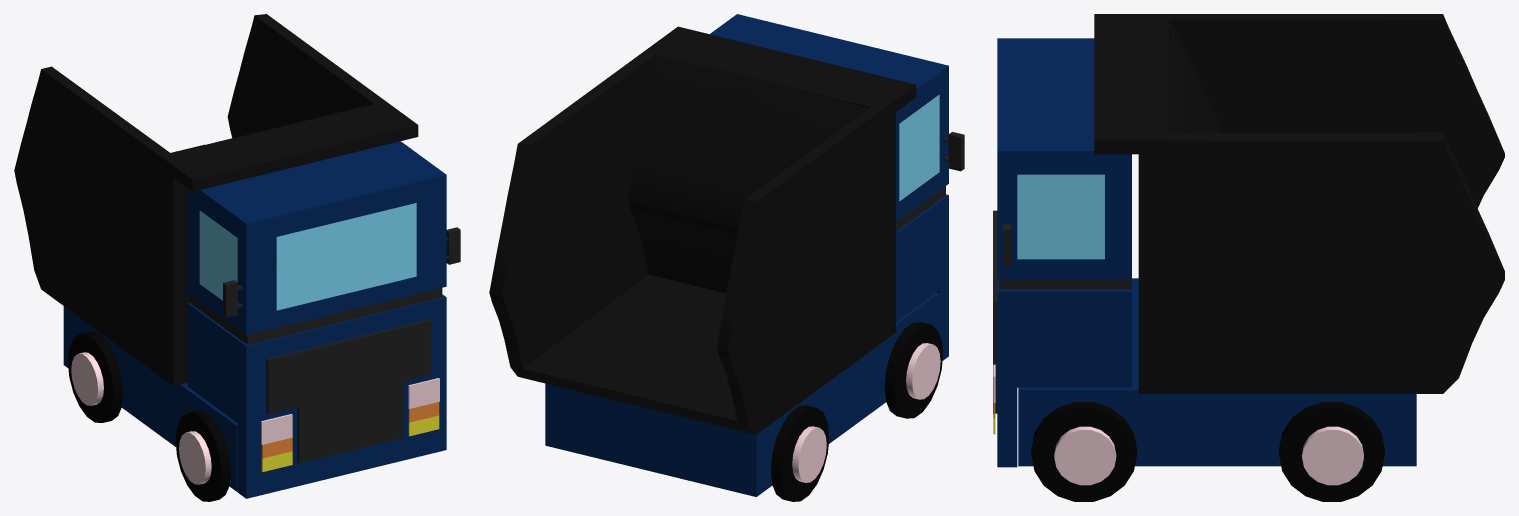
Rendered from CamionPapelyCarton.fbx.
3 views of the same model, side by side, from view 1: azimuth 30°, elevation 25°; view 2: azimuth 150°, elevation 25°; view 3: azimuth 270°, elevation 25° (orthographic). The views are drawn at different scales.
Parts seen in each view (by area): view 1: Box003, Box001, Box010, Box009, Box002, Cylinder003, Cylinder001, Box008, Cylinder002, Cylinder004, Box011, Box016 (+3 smaller); view 2: Box003, Box002, Box001, Box009, Cylinder001, Cylinder003, Cylinder004, Cylinder002, Box017; view 3: Box003, Box001, Box002, Box009, Cylinder007, Cylinder005, Cylinder006, Cylinder008, Box005, Box010.
Part boxes in pixels (x1,y1,x2,y2): Box003: [14, 14, 418, 386]; Box001: [187, 141, 446, 498]; Box010: [266, 319, 431, 463]; Box009: [199, 203, 416, 310]; Box002: [63, 306, 237, 491]; Cylinder003: [175, 410, 230, 501]; Cylinder001: [68, 332, 123, 422]; Box008: [248, 288, 440, 344]; Cylinder002: [71, 352, 103, 405]; Cylinder004: [179, 431, 211, 484]; Box011: [261, 414, 292, 444]; Box016: [408, 378, 439, 408]; Box003: [489, 26, 916, 434]; Box002: [545, 292, 939, 496]; Box001: [710, 14, 948, 360]; Box009: [899, 94, 939, 201]; Cylinder001: [770, 405, 829, 501]; Cylinder003: [884, 322, 942, 418]; Cylinder004: [906, 343, 940, 399]; Cylinder002: [792, 426, 826, 482]; Box017: [943, 132, 964, 171]; Box003: [1094, 14, 1504, 393]; Box001: [997, 38, 1131, 467]; Box002: [1018, 278, 1416, 466]; Box009: [1017, 174, 1104, 259]; Cylinder007: [1031, 402, 1136, 501]; Cylinder005: [1279, 402, 1384, 501]; Cylinder006: [1302, 426, 1363, 485]; Cylinder008: [1054, 426, 1116, 485]; Box005: [999, 279, 1131, 289]; Box010: [993, 210, 997, 413].
Size of the model in its own units: 642 by 830 by 1054.
